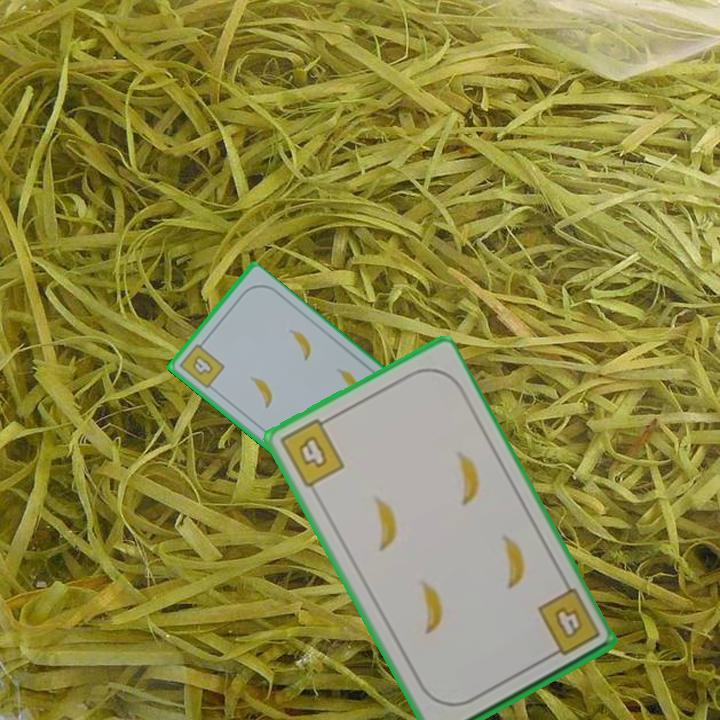4b: (275, 412, 347, 491), (533, 584, 603, 662), (176, 336, 228, 392)
